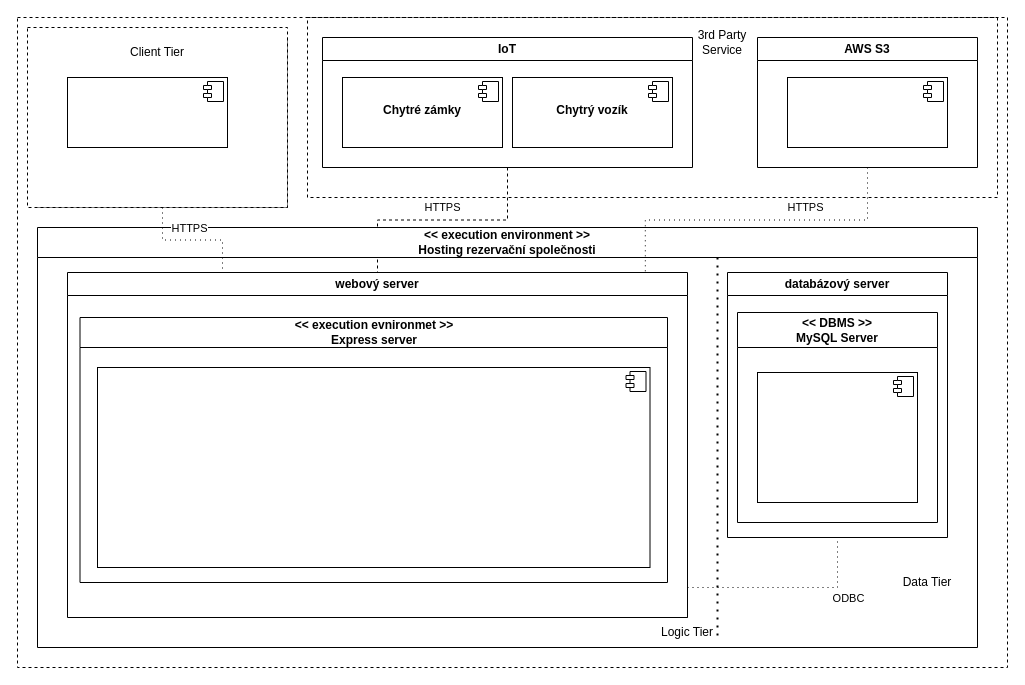
Image size: 1025x685. Some labels were removed from this diagram. Each missing label, with the centre of its shape:
Aplikace wobové API: [373,467]
Databáze: [837,437]
Uložiště dokumentů: [867,112]
webová aplikace: [147,112]
